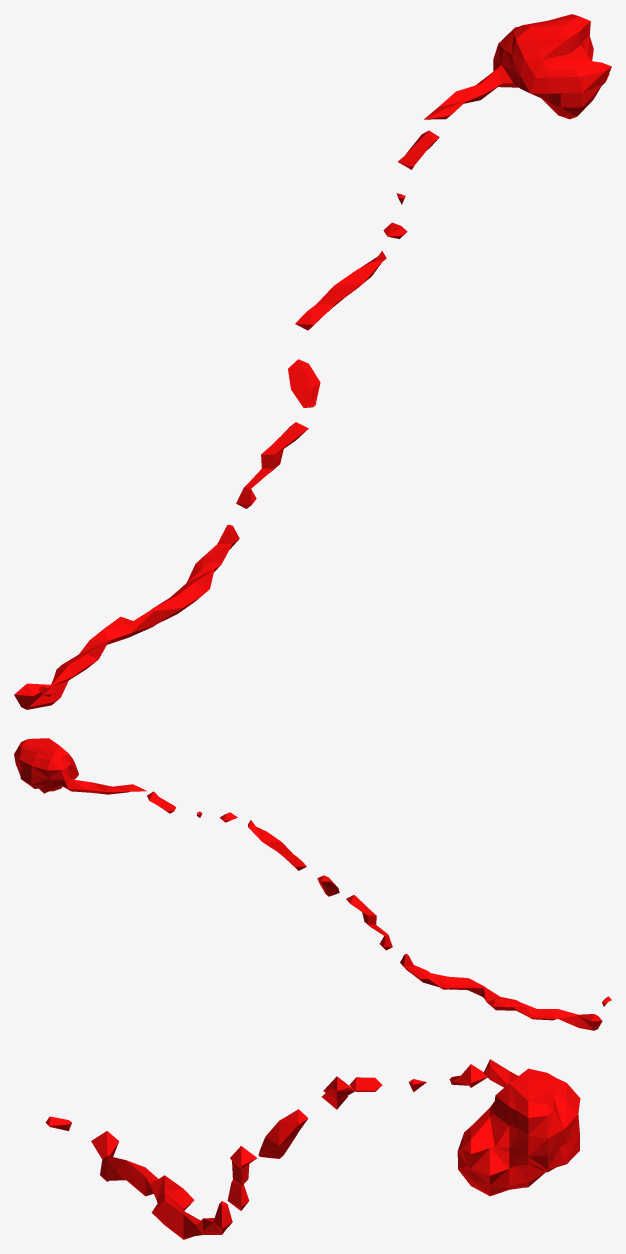
Rendered from manX_coarse.dae.
3 views of the same model, one above another, from view 1: azimuth 30°, elevation 25°; view 2: azimuth 150°, elevation 25°; view 3: azimuth 270°, elevation 25° (orthographic). The views are drawn at different scales.
Parts seen in each view (by area): view 1: manX; view 2: manX; view 3: manX.
Part boxes in pixels (x1,y1,x2,y2): manX: (14,14,611,709); manX: (14,738,611,1030); manX: (45,1059,580,1239).
Size of the model in its own units: 392 by 203 by 190.
